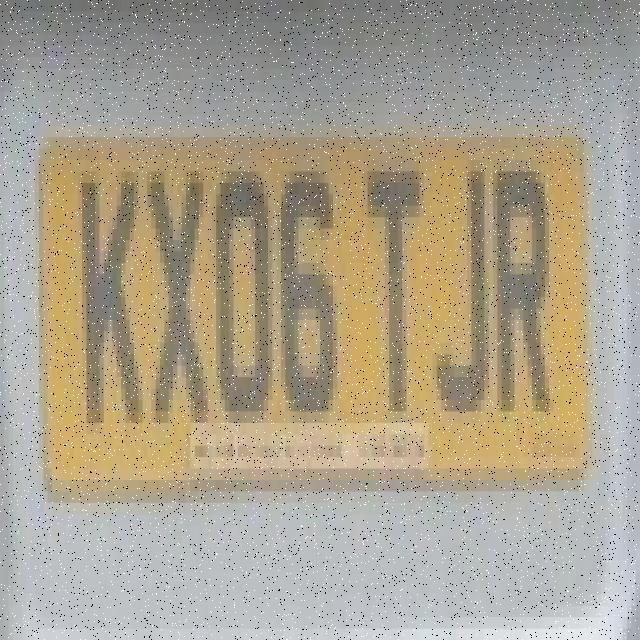LicensePlate: (31, 60, 615, 561)
